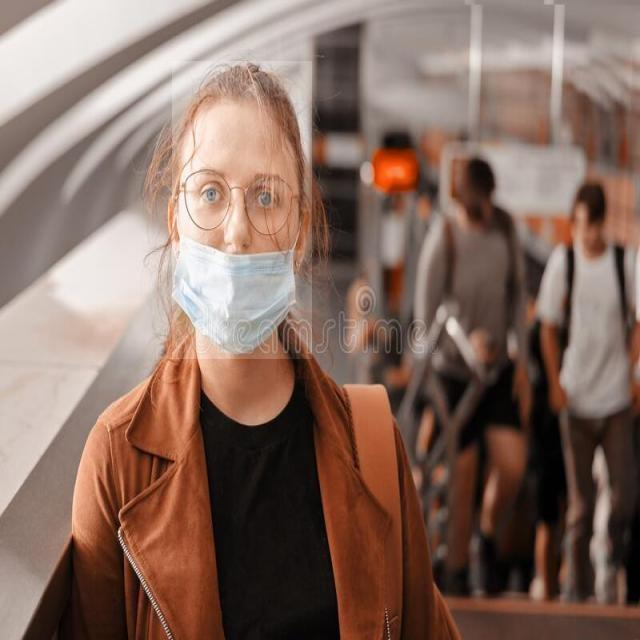hairnet: (172, 216, 306, 358)
